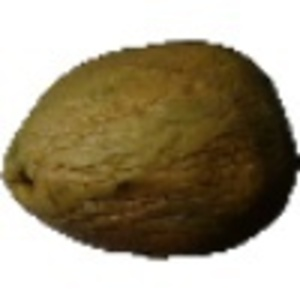mamão: (2, 31, 297, 264)
